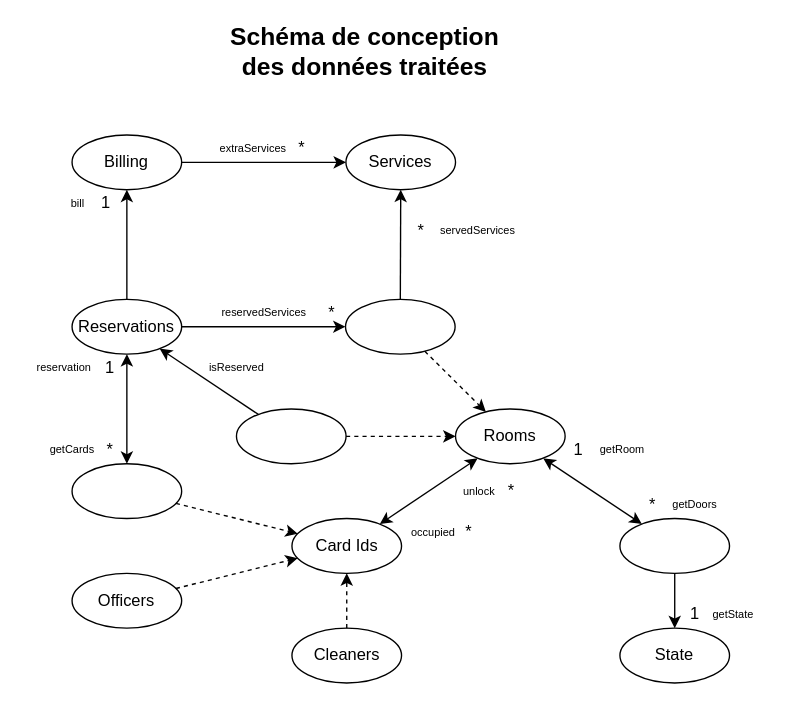
This 792x707 diagram has some shape labels left out. The centre of each missing label's shape, as x and y in pixels:
"Bedrooms" belongs at pixel 290 436.
"Customer" belongs at pixel 126 490.
"Doors" belongs at pixel 674 545.
"Services Room" belongs at pixel 399 326.
